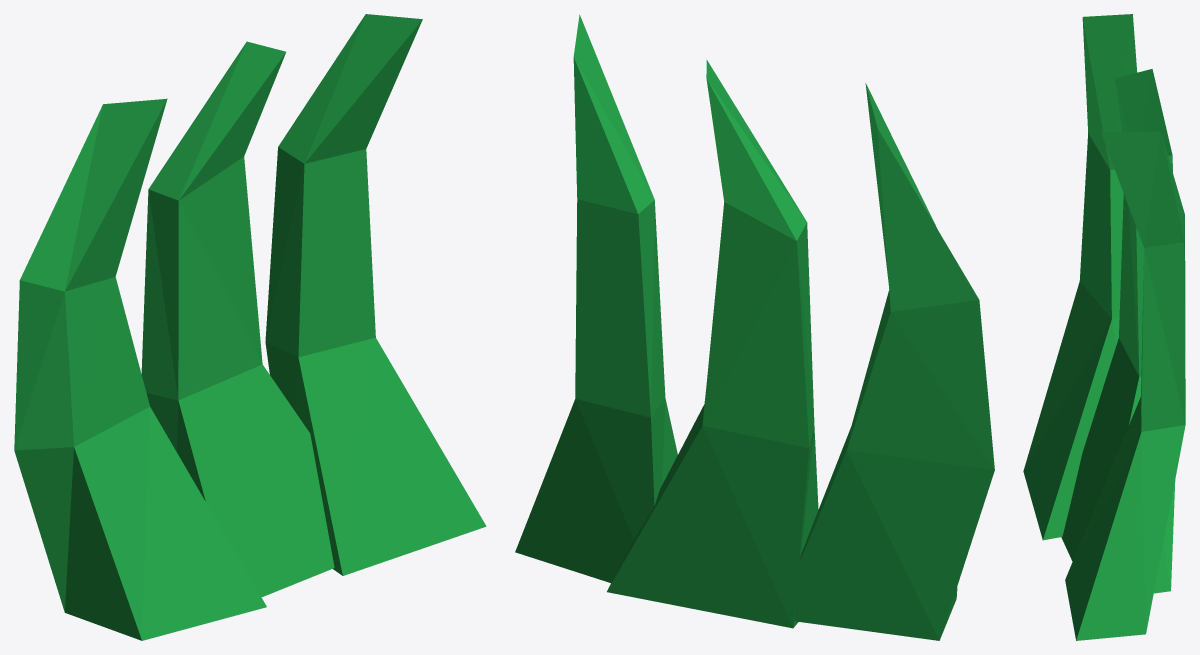
Rendered from grass_1.OBJ.
3 views of the same model, side by side, from view 1: azimuth 30°, elevation 25°; view 2: azimuth 150°, elevation 25°; view 3: azimuth 270°, elevation 25° (orthographic). The views are drawn at different scales.
Parts seen in each view (by area): view 1: grass_1; view 2: grass_1; view 3: grass_1.
Boxes of the visible parts, box(x1,y1,x2,y2) form: grass_1: box(14, 14, 486, 640); grass_1: box(515, 14, 994, 640); grass_1: box(1023, 14, 1185, 640).
Bounding box in the file's own units: 5.27 × 5.78 × 1.72.
Materials: 1 (1 with a texture image).
